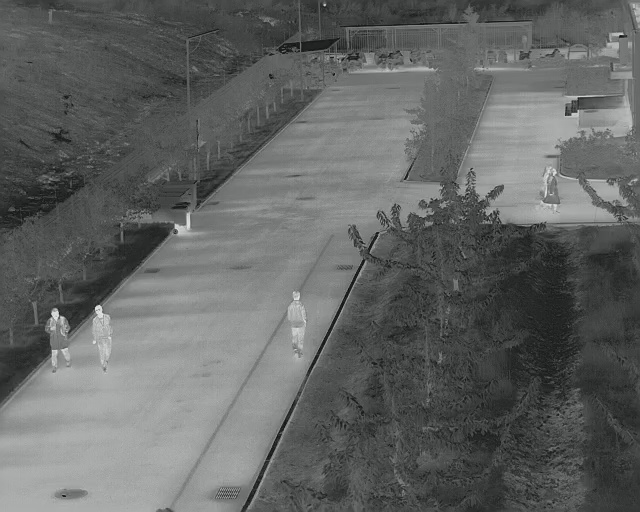person: (89, 302, 116, 375), (284, 290, 309, 360), (47, 308, 72, 371), (541, 166, 561, 213)
